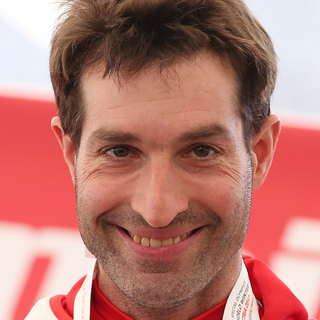eye: (178, 139, 227, 164), (95, 140, 144, 164)
